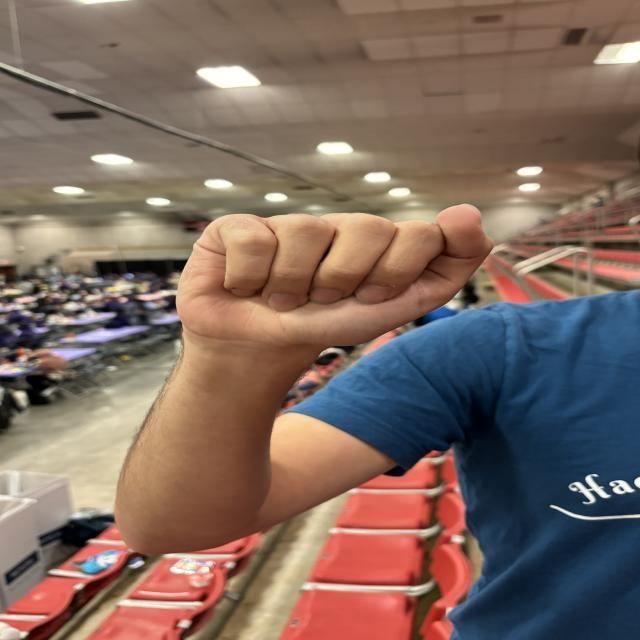A: (164, 204, 497, 338)
